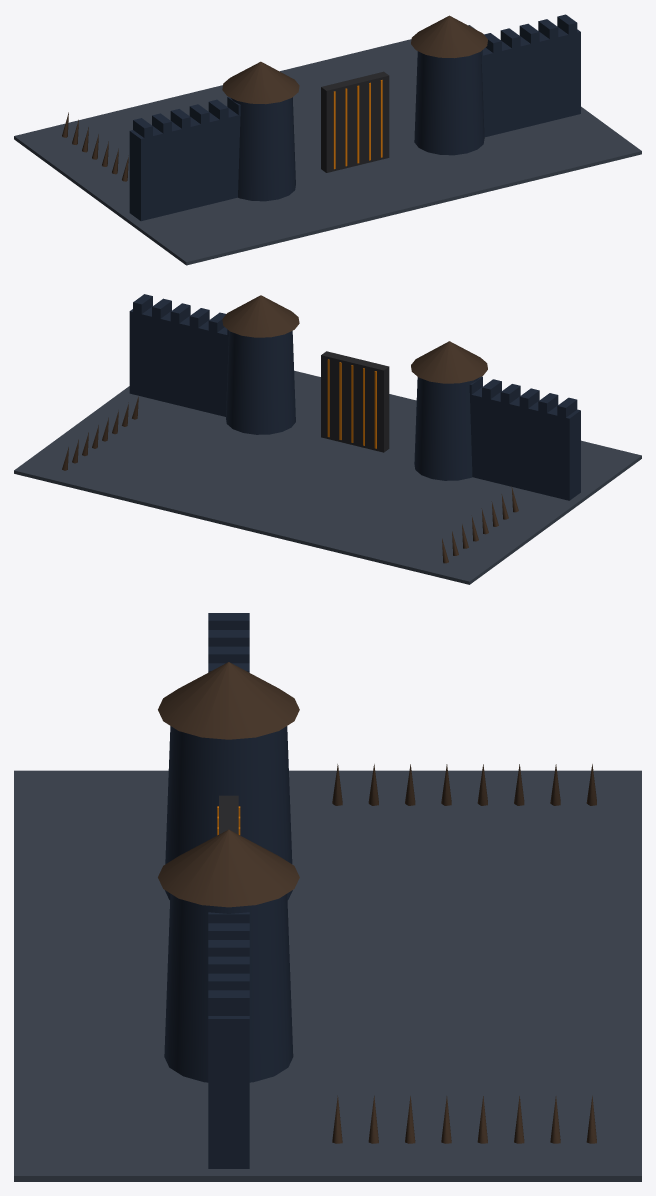
File: vol_02.glb
3 renders of one model, top to bottom at view 1: azimuth 30°, elevation 25°; view 2: azimuth 150°, elevation 25°; view 3: azimuth 270°, elevation 25°, orthographic. The views are drawn at different scales.
Visible parts, largest first — view 1: scenario_tile_box_floor, VOL_02, vol_cyclopean_gate; view 2: scenario_tile_box_floor, VOL_02, vol_cyclopean_gate; view 3: scenario_tile_box_floor, VOL_02.
Boxes of the visible parts, <box> form: scenario_tile_box_floor: <box>14,25,641,265</box>; VOL_02: <box>62,14,580,221</box>; vol_cyclopean_gate: <box>321,71,389,172</box>; scenario_tile_box_floor: <box>14,370,641,584</box>; VOL_02: <box>62,294,580,563</box>; vol_cyclopean_gate: <box>321,351,389,452</box>; scenario_tile_box_floor: <box>14,770,641,1181</box>; VOL_02: <box>158,613,596,1168</box>.
Size of the model in its own units: 58 by 15.6 by 38.
